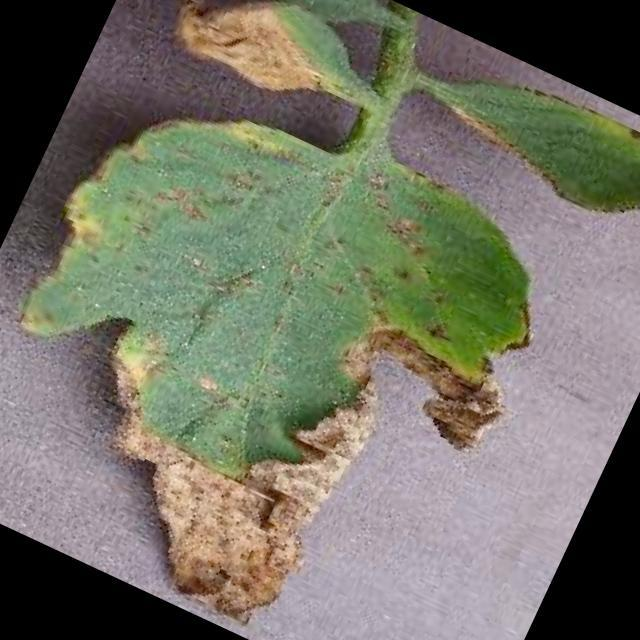Tomato bacterial spot leaf: (0, 35, 588, 640), (431, 49, 640, 259), (148, 0, 386, 132)
